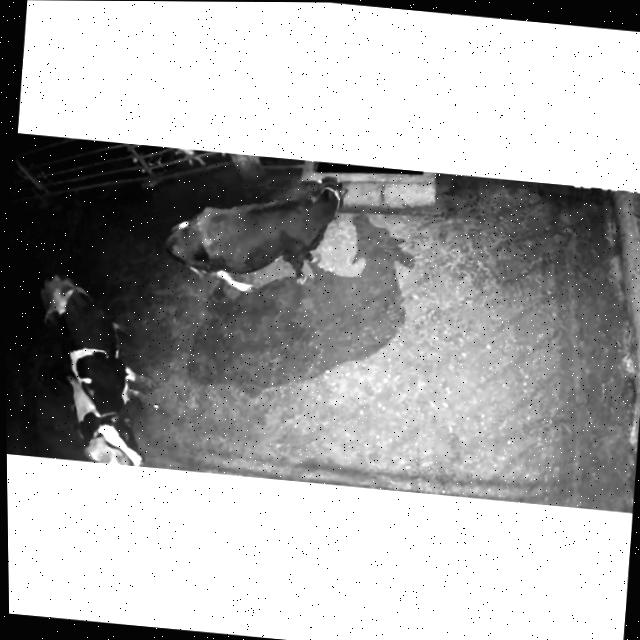stand: (153, 162, 362, 312), (34, 250, 168, 467)
